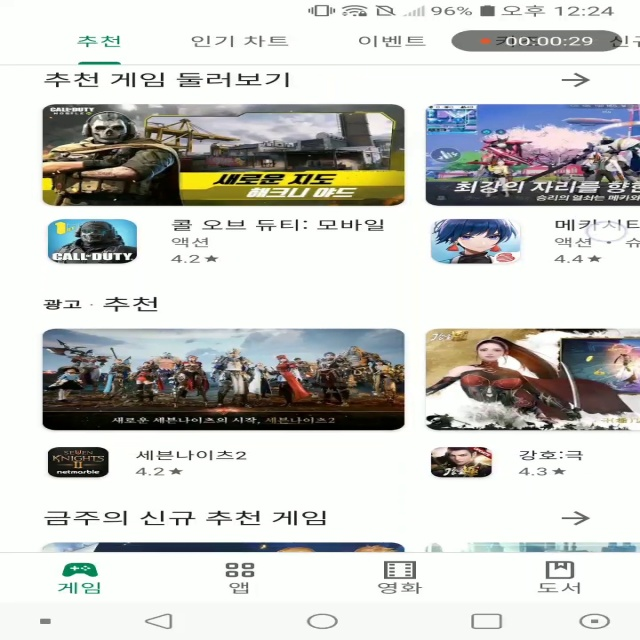Cursor: (585, 221, 630, 244)
